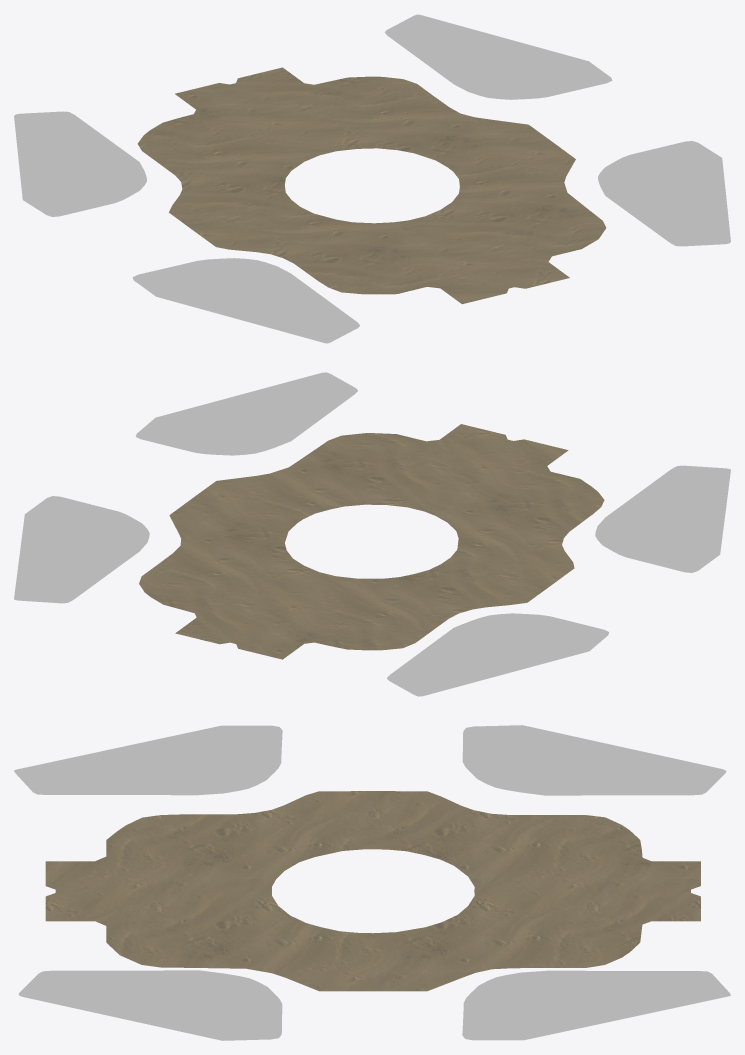
The model's file is pref_VFX_Water_beta_01_lv1.fbx.
The picture shows the model from 3 angles, top to bottom: view 1: azimuth 30°, elevation 25°; view 2: azimuth 150°, elevation 25°; view 3: azimuth 270°, elevation 25°; orthographic projection. The views are drawn at different scales.
Visible parts, largest first — view 1: pref_sm_beach_techunderwater01_lv1, pref_sm_beach_techobstacle03_water_lv1 (×2); view 2: pref_sm_beach_techunderwater01_lv1, pref_sm_beach_techobstacle03_water_lv1 (×2); view 3: pref_sm_beach_techunderwater01_lv1, pref_sm_beach_techobstacle03_water_lv1 (×2).
Boxes of the visible parts, bbox=[...] form: pref_sm_beach_techunderwater01_lv1: bbox=[137, 67, 606, 304]; pref_sm_beach_techobstacle03_water_lv1 (×2): bbox=[14, 14, 730, 343]; pref_sm_beach_techunderwater01_lv1: bbox=[139, 424, 604, 659]; pref_sm_beach_techobstacle03_water_lv1 (×2): bbox=[14, 372, 730, 696]; pref_sm_beach_techunderwater01_lv1: bbox=[45, 791, 700, 991]; pref_sm_beach_techobstacle03_water_lv1 (×2): bbox=[14, 725, 730, 1040].
Size of what is drawn, in the model's own units: 38.18 by 0.4606 by 36.64.
